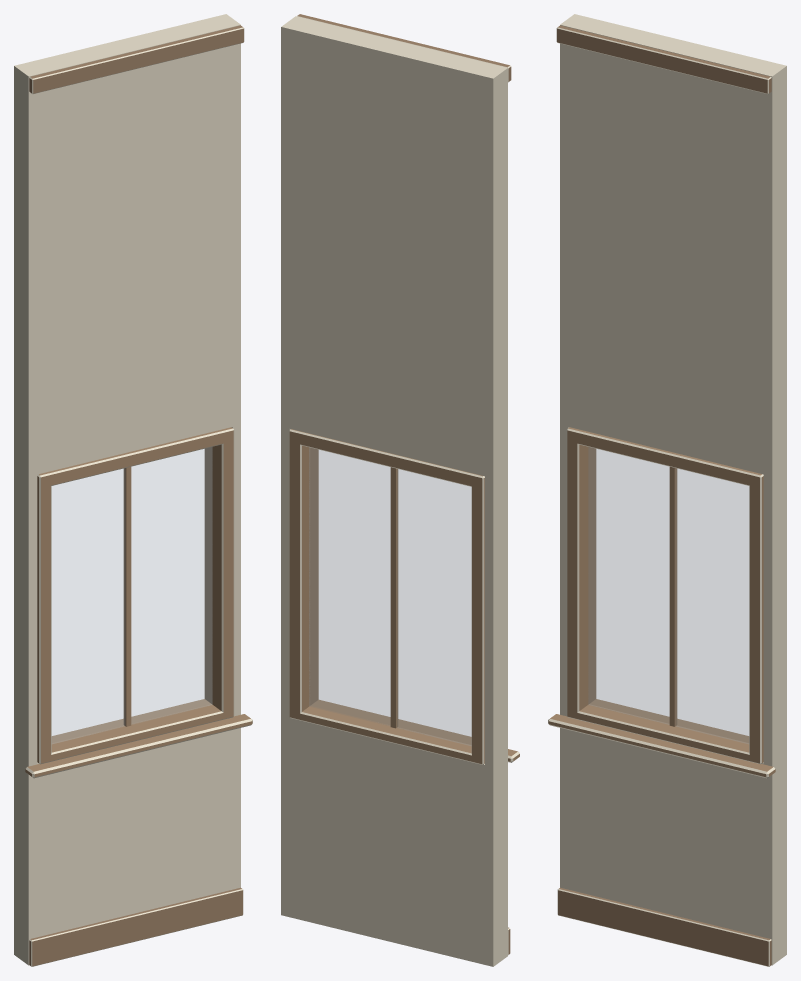
Rendered from muro_ventana_400.glb.
3 renders of one model, left to right at view 1: azimuth 30°, elevation 25°; view 2: azimuth 150°, elevation 25°; view 3: azimuth 330°, elevation 25°, orthographic.
Visible parts, largest first — view 1: muro_ventana_400; view 2: muro_ventana_400; view 3: muro_ventana_400.
Part boxes in pixels (<box>): muro_ventana_400: <box>14,14,252,966</box>; muro_ventana_400: <box>281,14,519,966</box>; muro_ventana_400: <box>548,14,786,966</box>.
Size of the model in its own units: 1.04 by 4 by 0.2.
